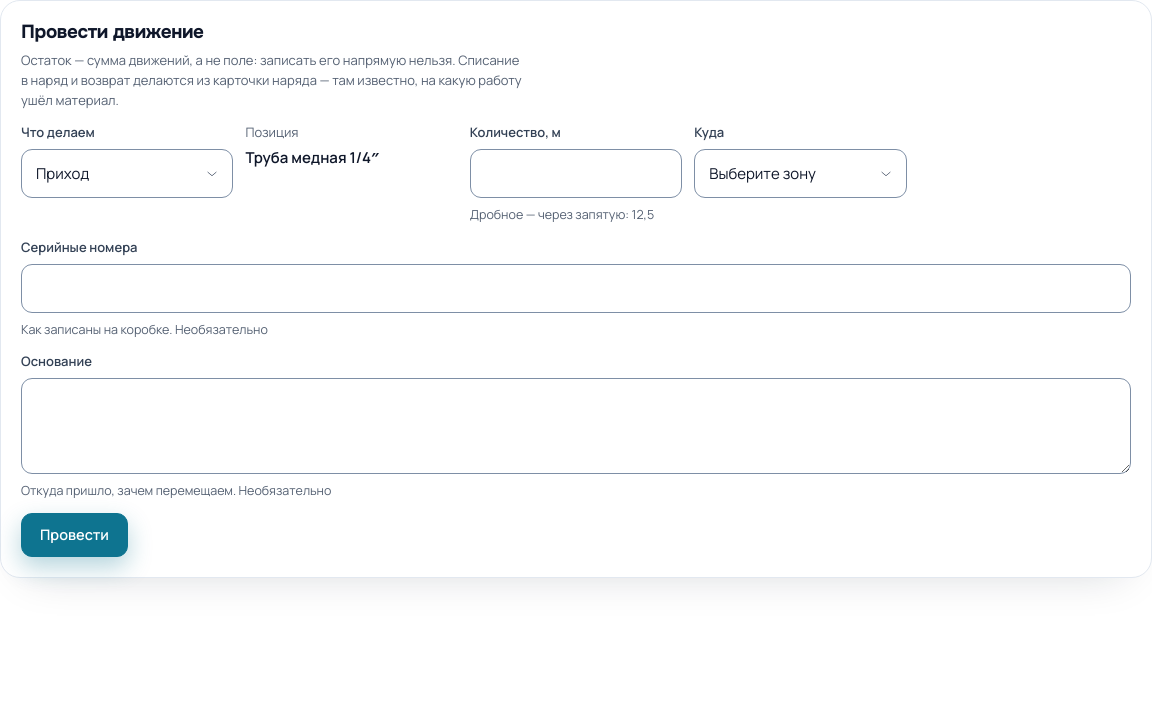
Scenario: Форма движения › 🔴 инвентаризация без основания не проводится — подсказка приходит до отправки
This screenshot has width=1152, height=720.
Select "Инвентаризация" in the dropdown labelled "Что делаем" at (127, 174), box [21,149,233,198]
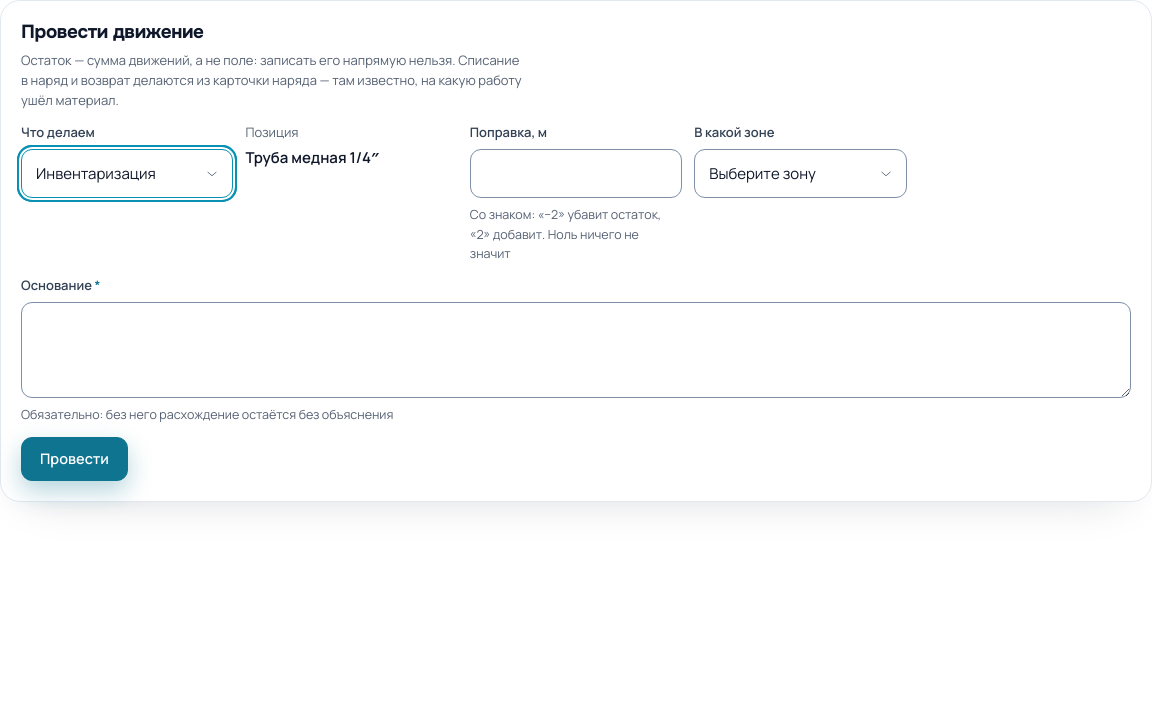
Type "-2,5" into the field labelled "Поправка, м" at (576, 174), box [470,149,682,198]
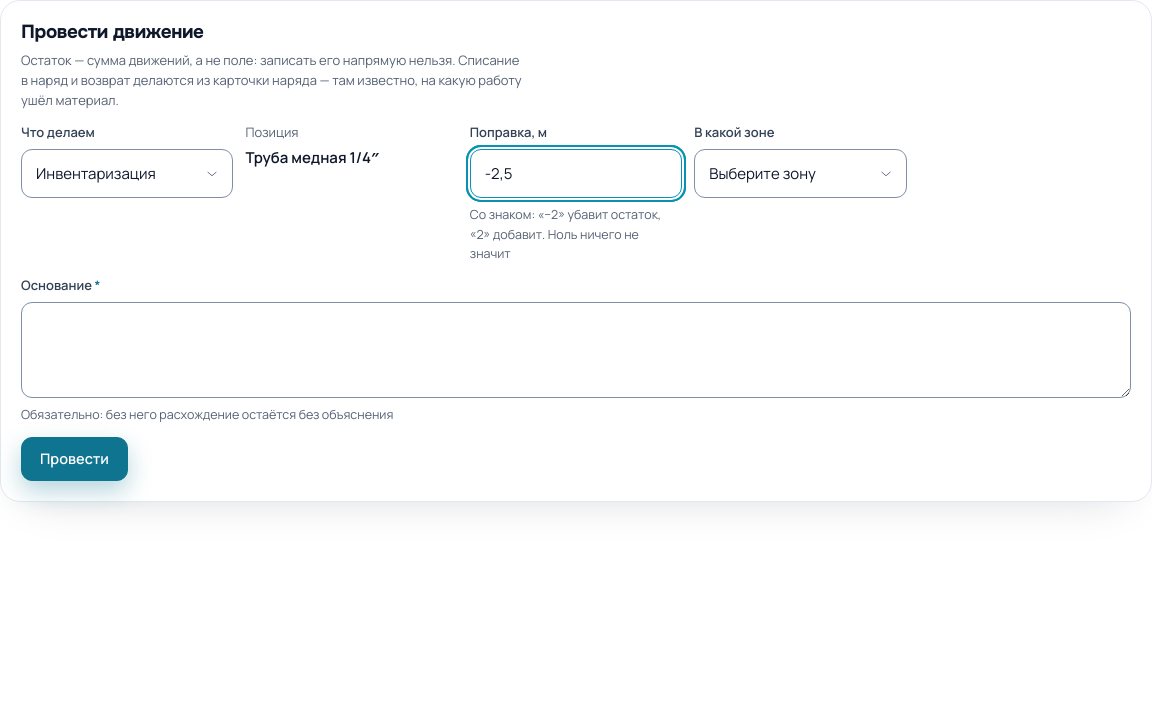
Select "Гараж на Демидовской" in the dropdown labelled "В какой зоне" at (800, 174), box [694,149,907,198]
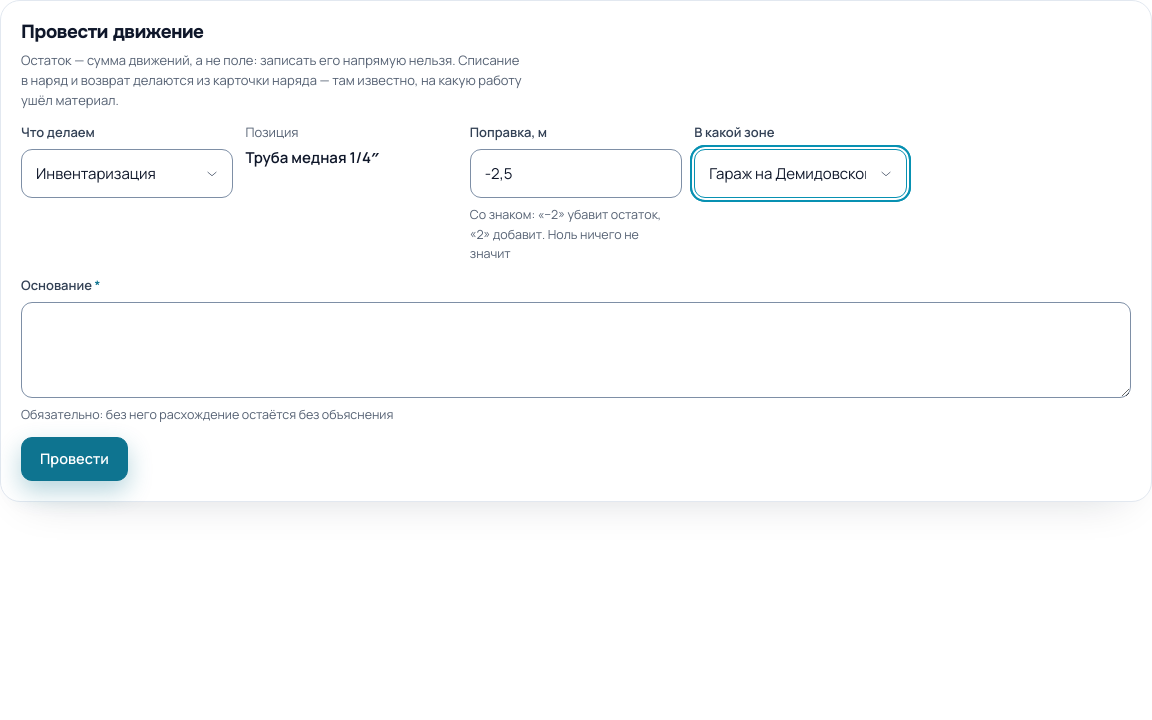
Click the button "Провести" at (74, 459), box [21,437,128,481]
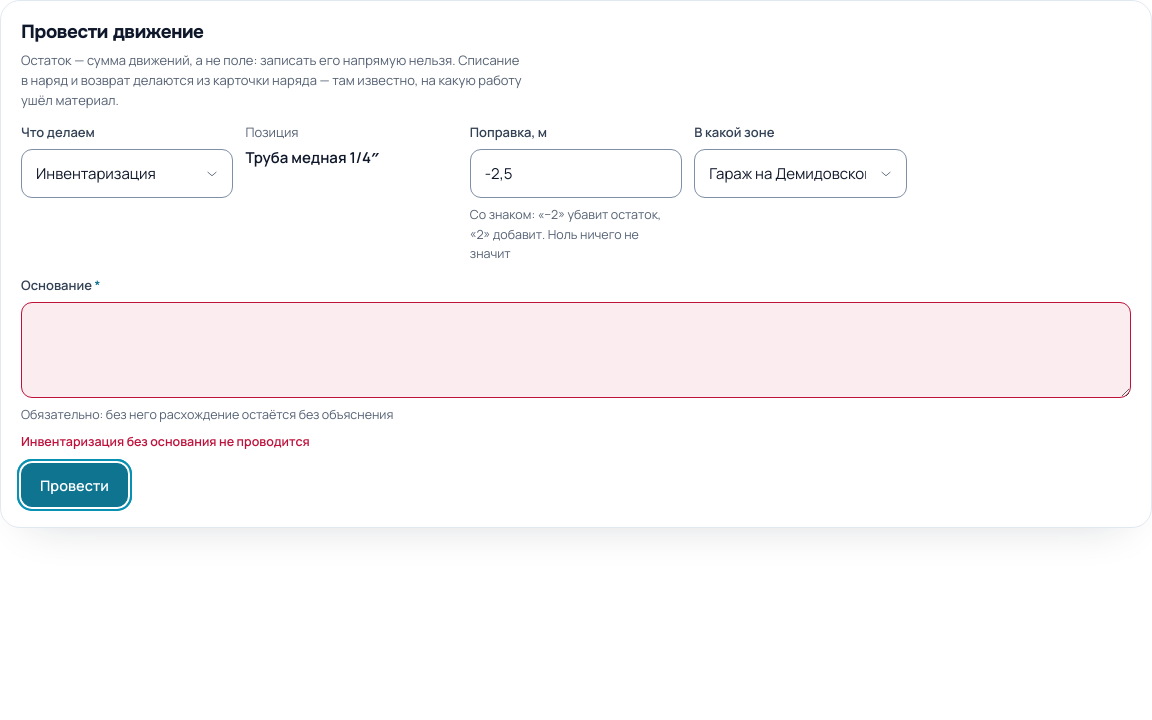
Expected: the text "Инвентаризация без основания не проводится" is shown, [21,433,310,450]
